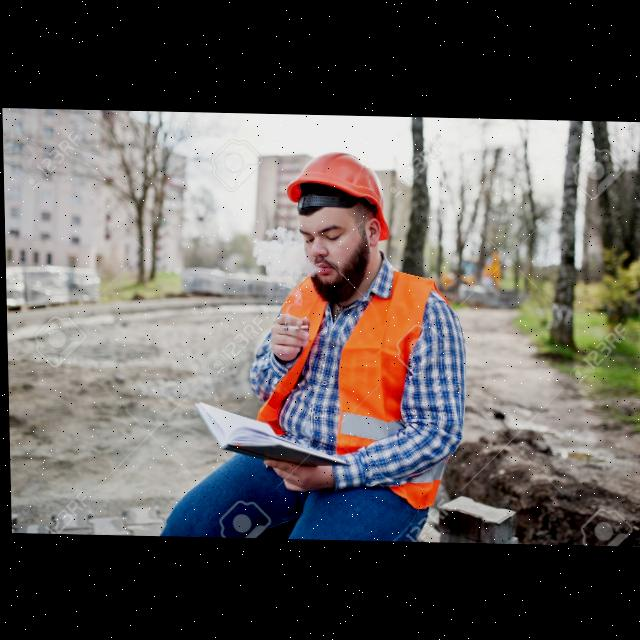cigarette: (280, 323, 307, 329)
